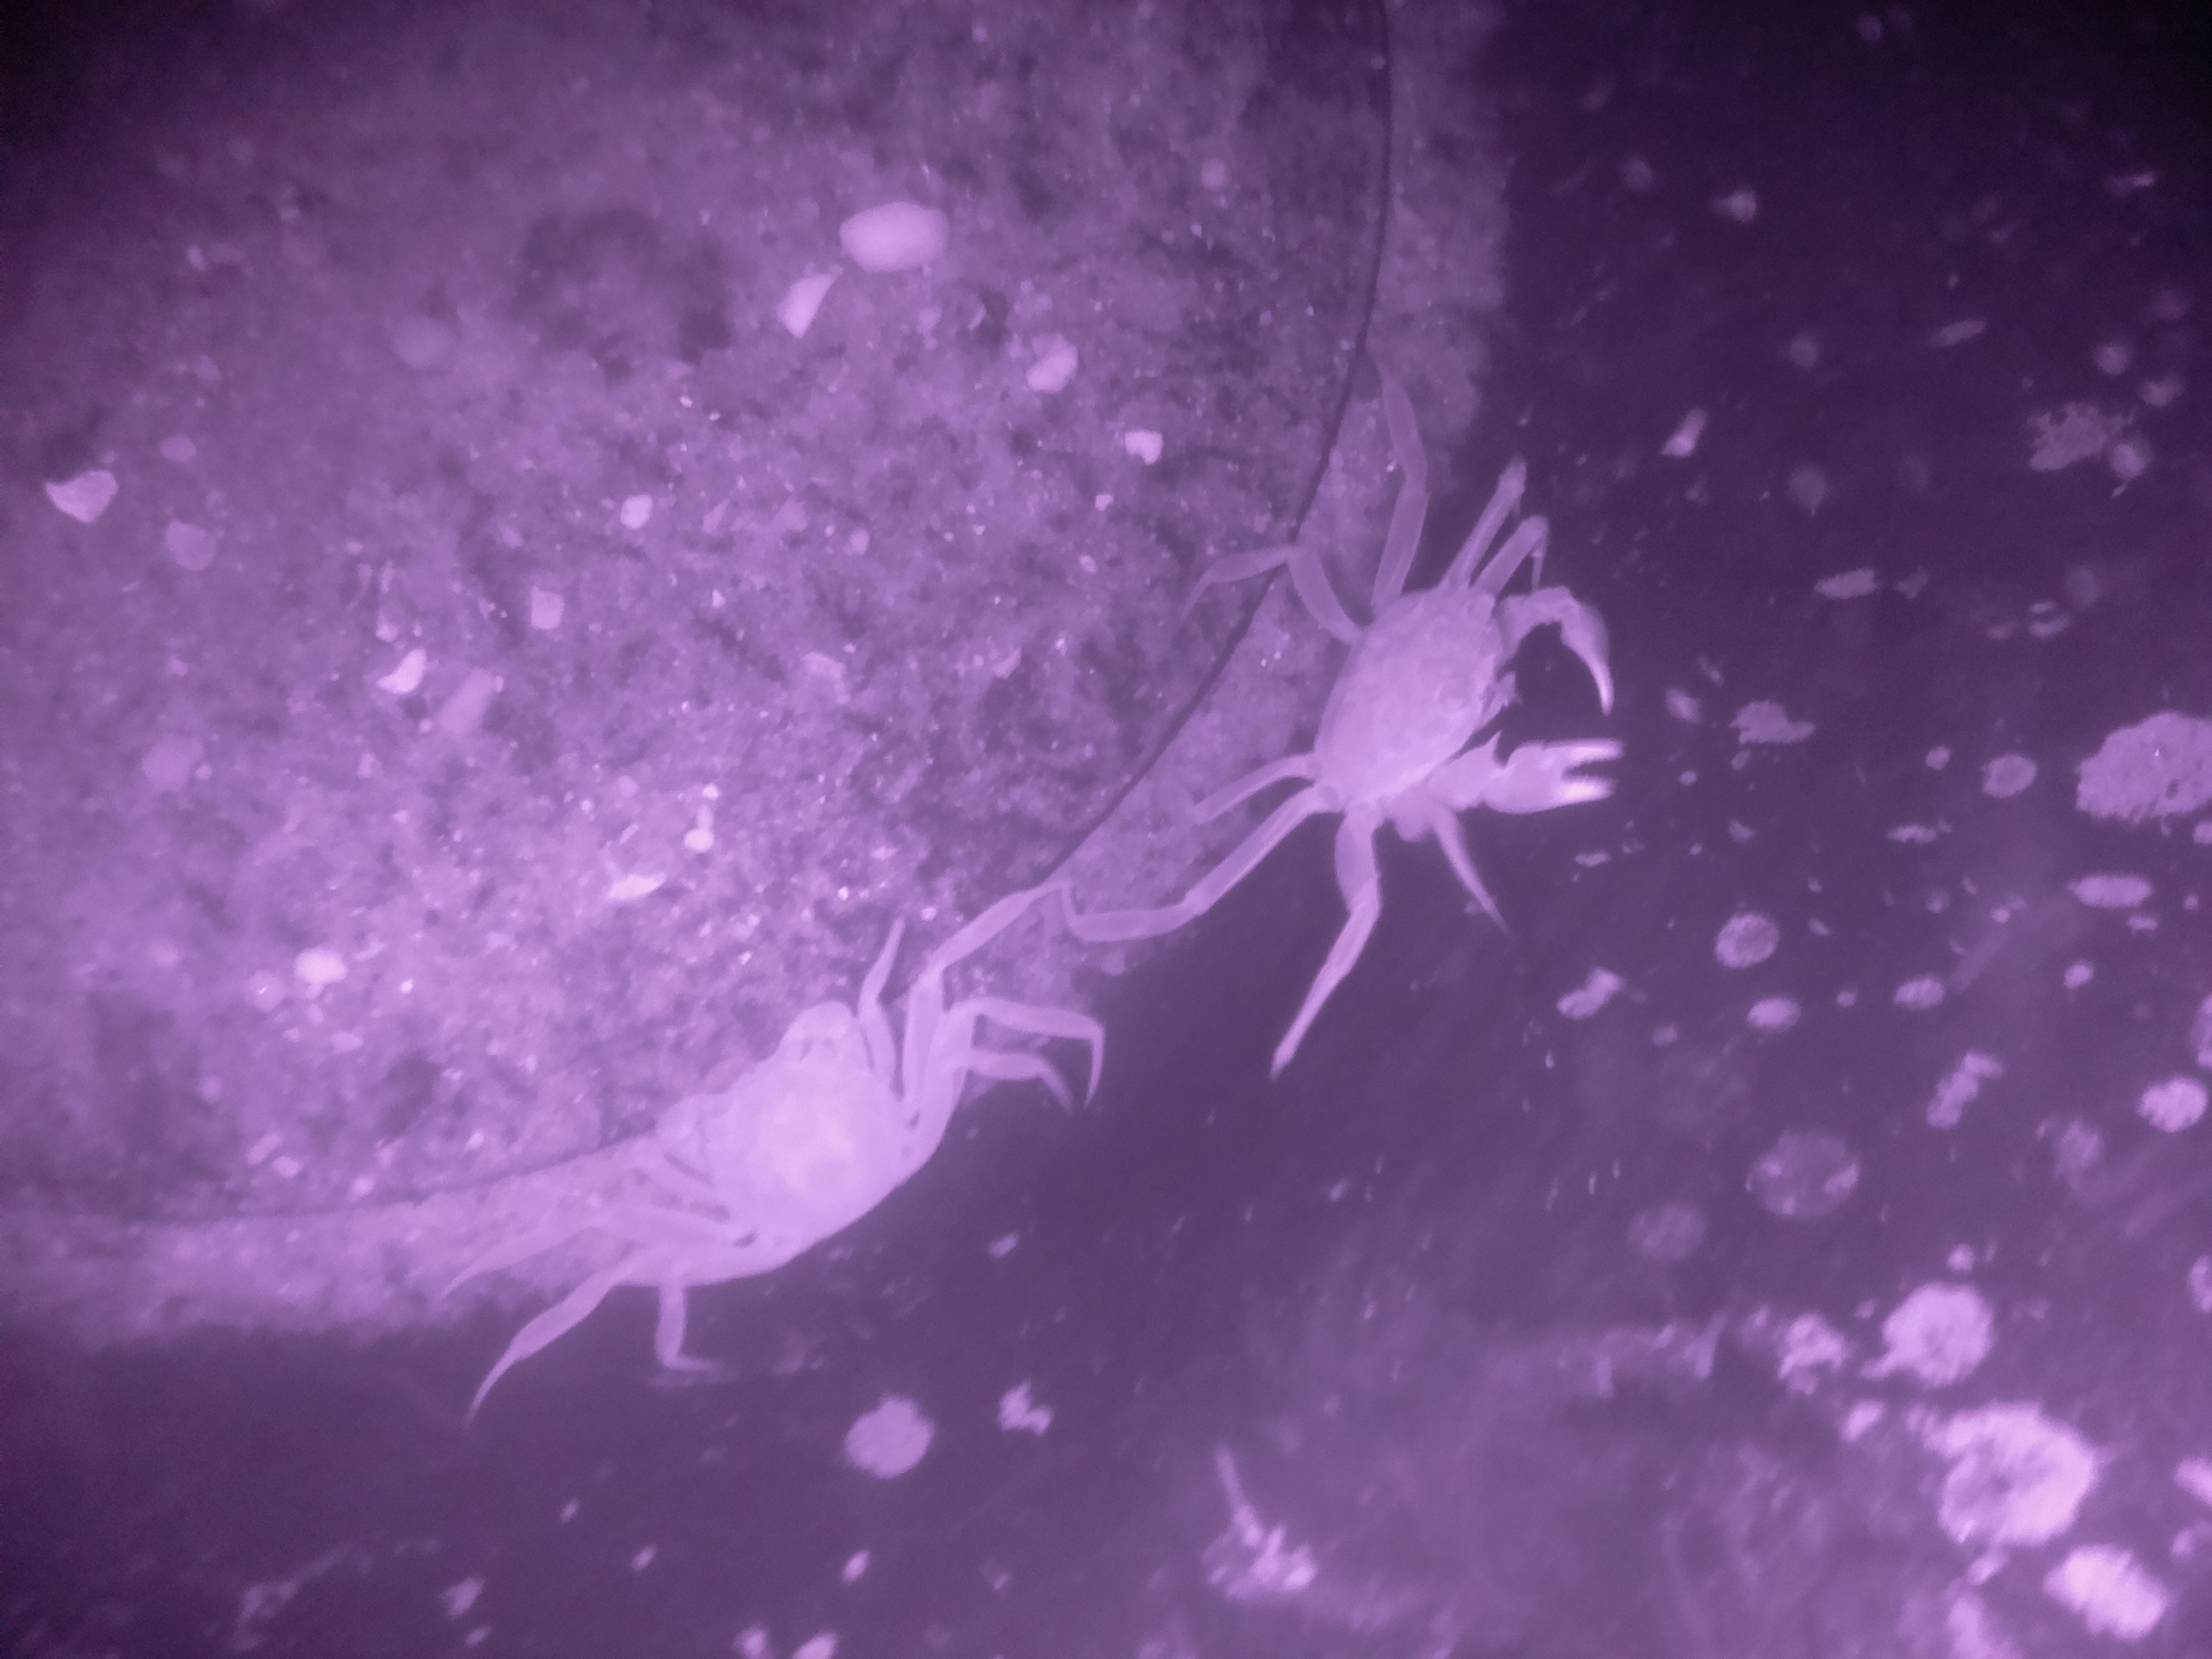Crab: (575, 877, 1033, 1344), (1212, 467, 1672, 925)
